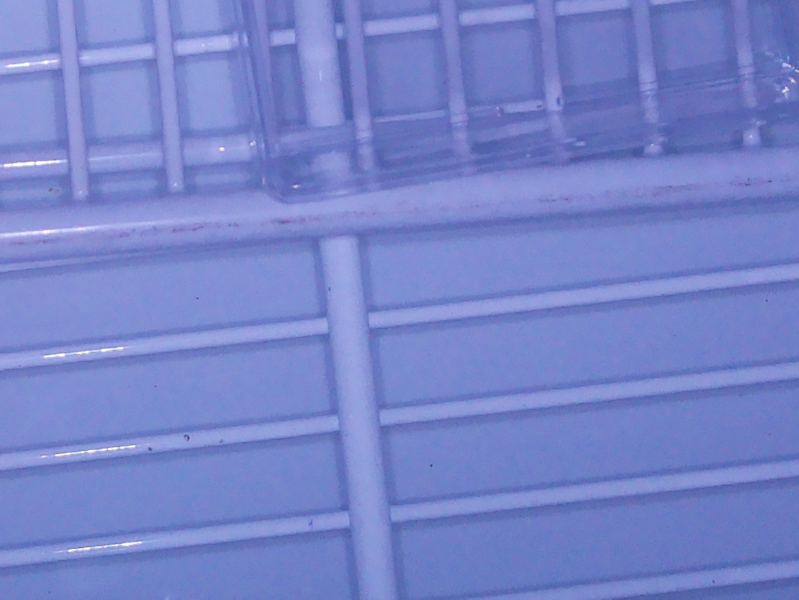plate: (224, 1, 799, 206)
